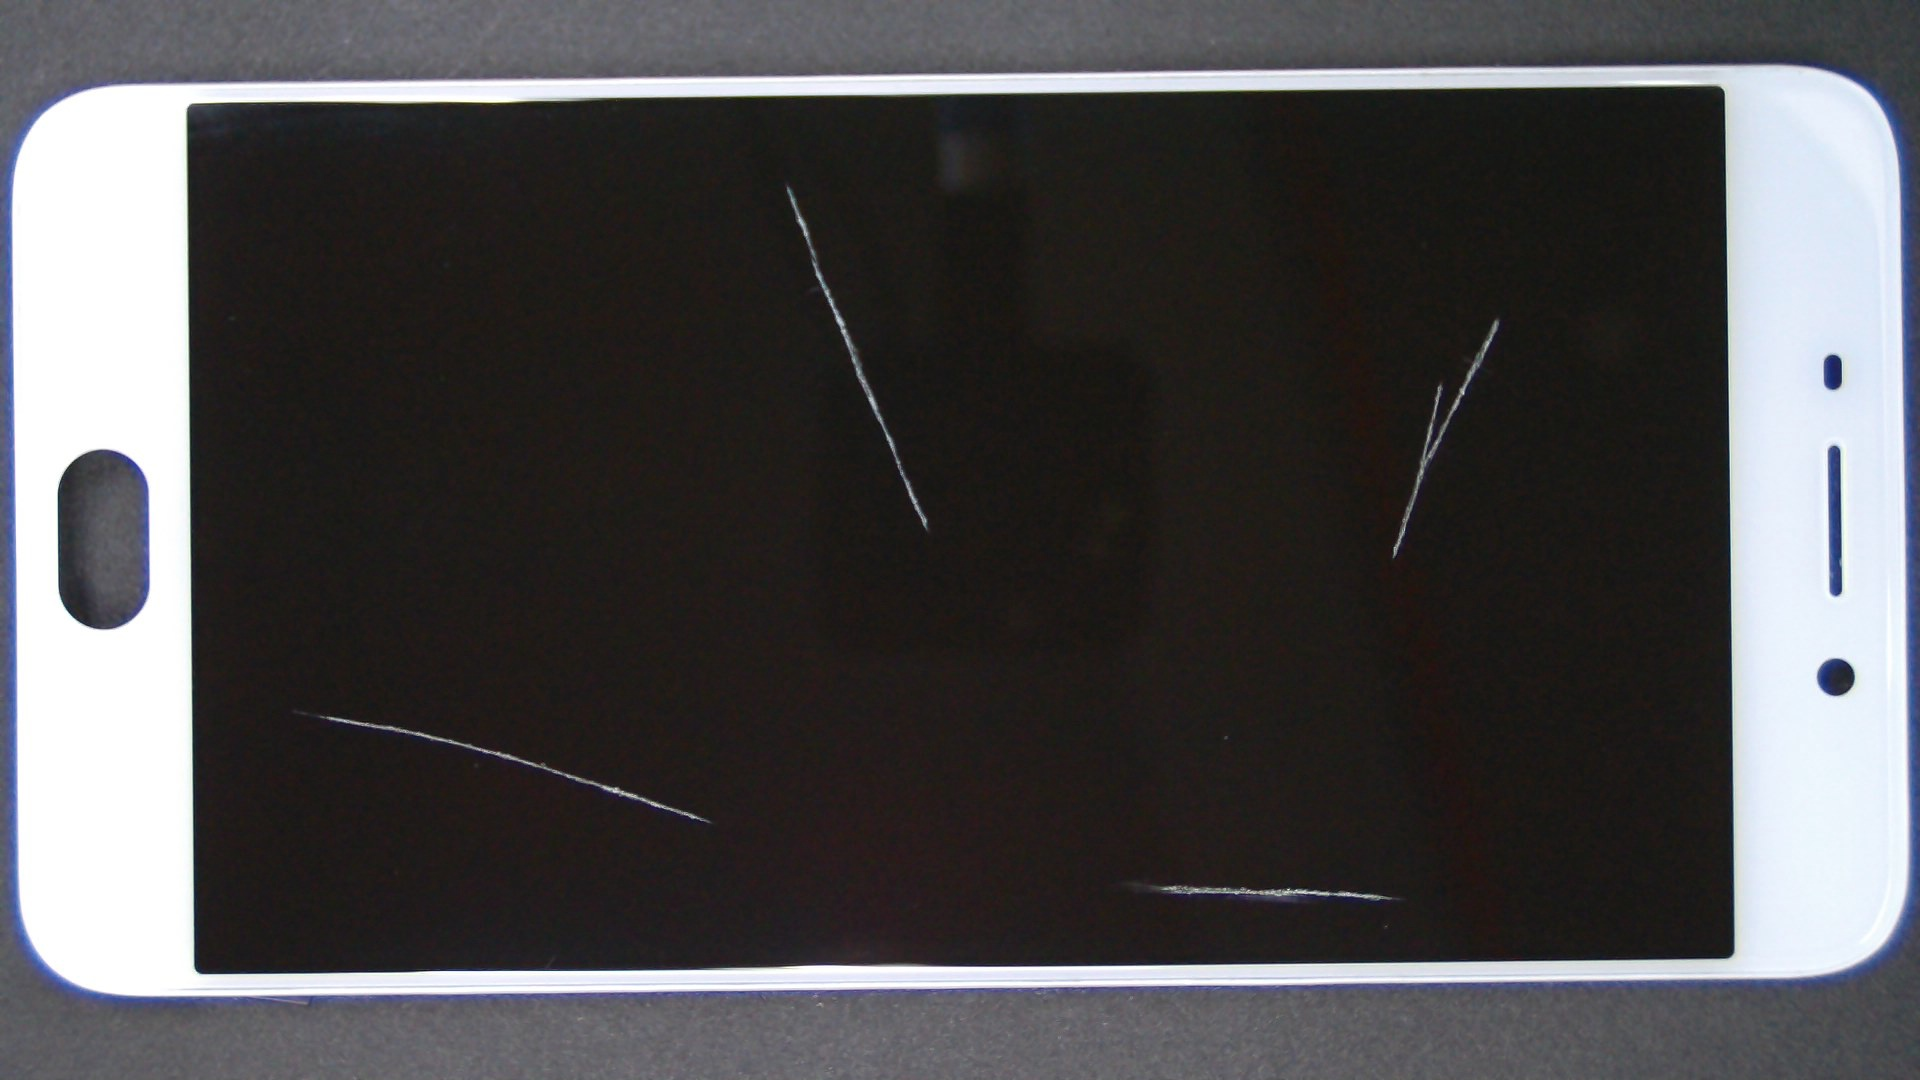oil: (571, 440, 1712, 1080), (748, 158, 1920, 477), (146, 353, 440, 1065), (393, 92, 1179, 278)
